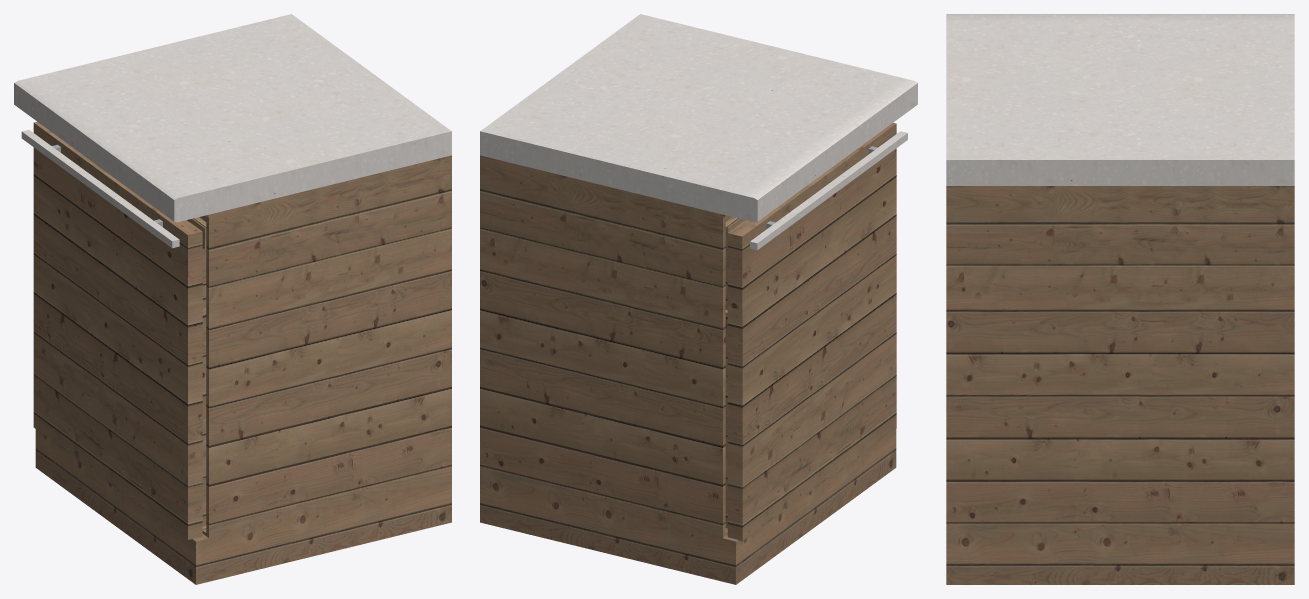
File: aanrecht enkel la.fbx
3 views of the same model, side by side, from view 1: azimuth 30°, elevation 25°; view 2: azimuth 150°, elevation 25°; view 3: azimuth 270°, elevation 25° (orthographic). The views are drawn at different scales.
Parts seen in each view (by area): view 1: aanrecht 1 lade001, la boven032; view 2: aanrecht 1 lade001, la boven032; view 3: aanrecht 1 lade001.
Part boxes in pixels (x1=…): aanrecht 1 lade001: x1=14, y1=14, x2=451, y2=584; la boven032: x1=21, y1=121, x2=206, y2=539; aanrecht 1 lade001: x1=480, y1=14, x2=917, y2=584; la boven032: x1=725, y1=122, x2=907, y2=541; aanrecht 1 lade001: x1=946, y1=14, x2=1294, y2=584.
Size of the model in its own units: 23.62 by 31.83 by 23.62.
4 materials, 4 textured.
